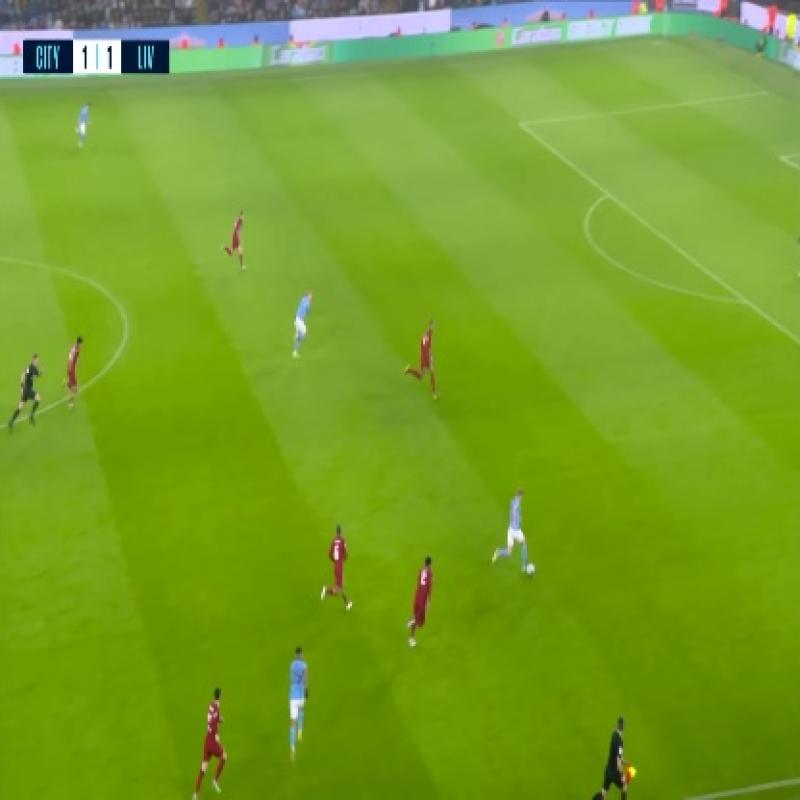1: (648, 31, 673, 50)
10: (594, 179, 618, 206)
11: (732, 284, 756, 314)
2: (756, 81, 775, 102)
7: (769, 144, 790, 169)
9: (508, 110, 531, 138)
c: (102, 300, 152, 342)
